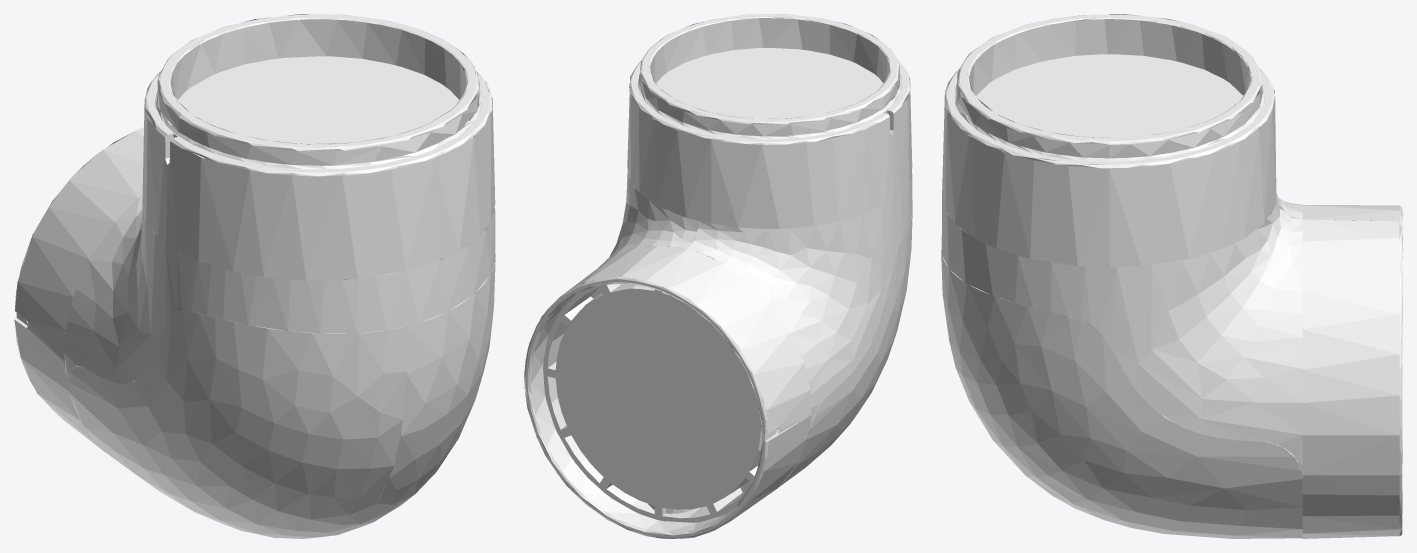
3 renders of one model, left to right at view 1: azimuth 30°, elevation 25°; view 2: azimuth 150°, elevation 25°; view 3: azimuth 270°, elevation 25°, orthographic. The views are drawn at different scales.
Visible parts, largest first — view 1: node.001; view 2: node.001; view 3: node.001.
Part boxes in pixels (x1,y1,x2,y2): node.001: (14,14,495,538); node.001: (524,14,912,538); node.001: (941,14,1402,538).
Size of the model in its own units: 0.0386 by 0.0564 by 0.0529.
Materials: 1 (1 with a texture image).
